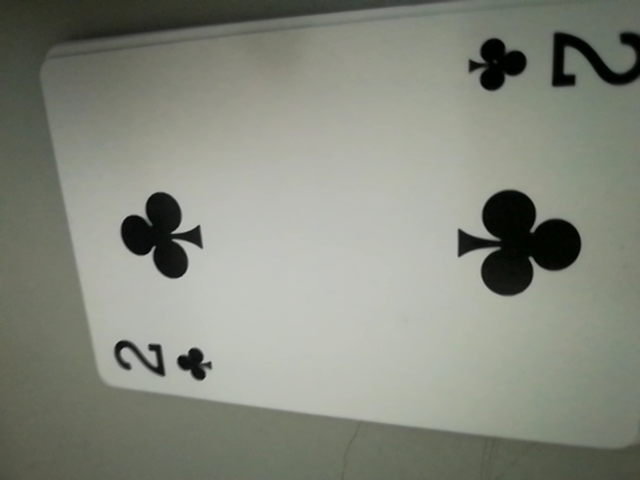mh 2: (463, 21, 640, 108), (109, 333, 222, 388)
